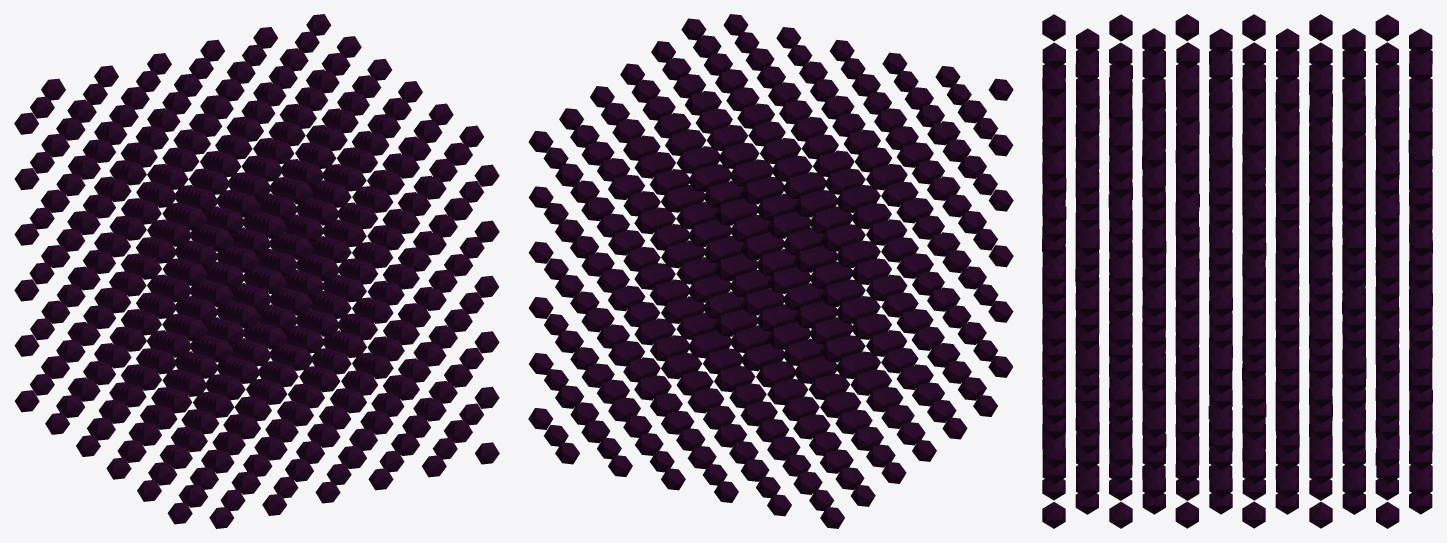
Rendered from research_ag.glb.
3 renders of one model, left to right at view 1: azimuth 30°, elevation 25°; view 2: azimuth 150°, elevation 25°; view 3: azimuth 270°, elevation 25°, orthographic. The views are drawn at different scales.
Size of the model in its own units: 23.95 by 23.95 by 23.95.
